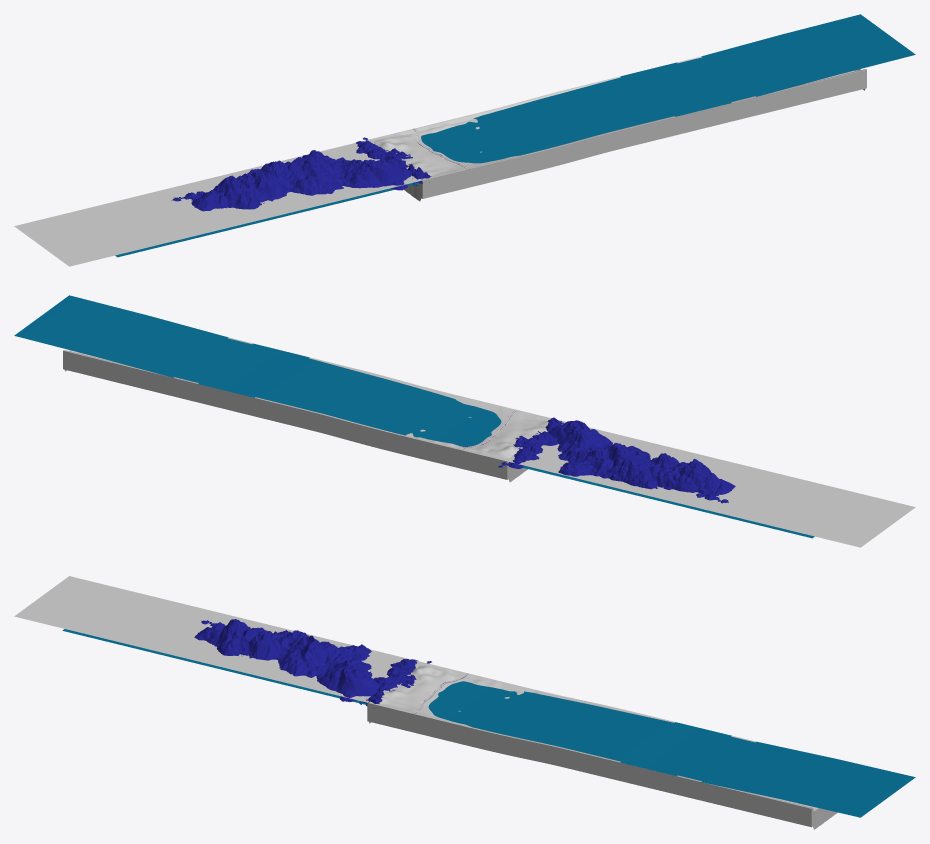
The model's file is beach_new2.FBX.
3 renders of one model, top to bottom at view 1: azimuth 30°, elevation 25°; view 2: azimuth 150°, elevation 25°; view 3: azimuth 330°, elevation 25°, orthographic.
Visible parts, largest first — view 1: Plane030, Plane029, Object007, Object004; view 2: Plane030, Plane029, Object007, Object004; view 3: Plane030, Object007, Plane029, Object004.
Boxes of the visible parts, left/top/right/bottom form: Plane030: left=115, top=14, right=915, bottom=257; Plane029: left=14, top=139, right=428, bottom=266; Object007: left=367, top=56, right=866, bottom=201; Object004: left=171, top=137, right=431, bottom=211; Plane030: left=14, top=295, right=814, bottom=538; Plane029: left=501, top=419, right=915, bottom=547; Object007: left=63, top=337, right=550, bottom=482; Object004: left=498, top=417, right=735, bottom=503; Plane030: left=62, top=629, right=915, bottom=817; Object007: left=367, top=662, right=837, bottom=829; Plane029: left=14, top=576, right=428, bottom=704; Object004: left=194, top=619, right=431, bottom=708.
Bounding box in the file's own units: 21206 × 2765 × 1081.
